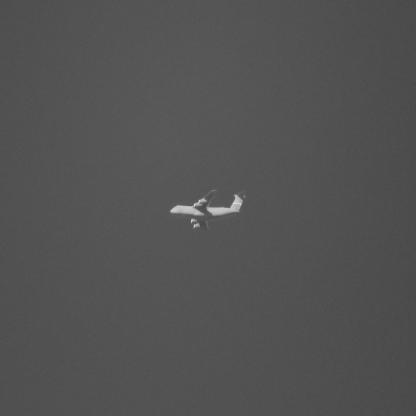C5: (170, 190, 250, 233)
